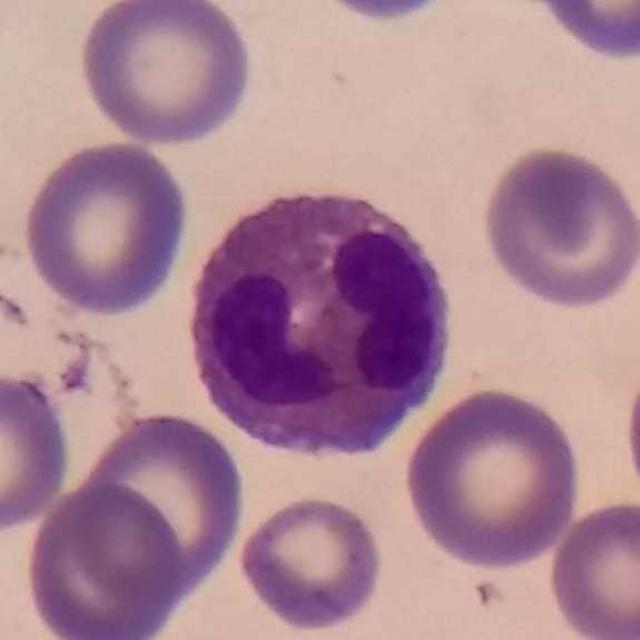Eosinophil: (172, 155, 461, 468)
RBC: (70, 406, 248, 604), (400, 381, 584, 571), (18, 136, 195, 319), (476, 141, 640, 312), (74, 0, 257, 149), (20, 478, 186, 639), (234, 492, 388, 634), (544, 495, 640, 640), (0, 365, 76, 537), (531, 0, 640, 63), (303, 0, 463, 27), (619, 345, 640, 521)
